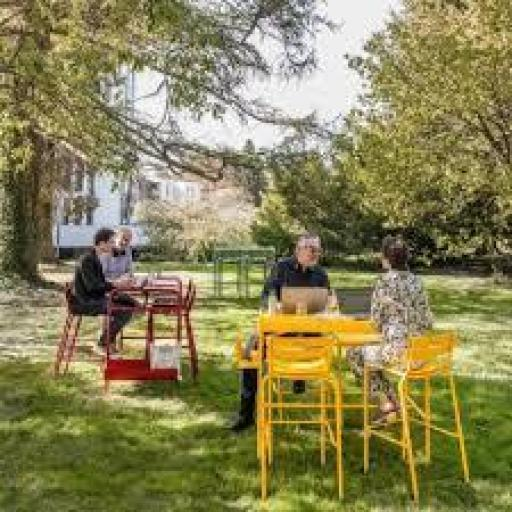chair: (248, 327, 355, 512)
